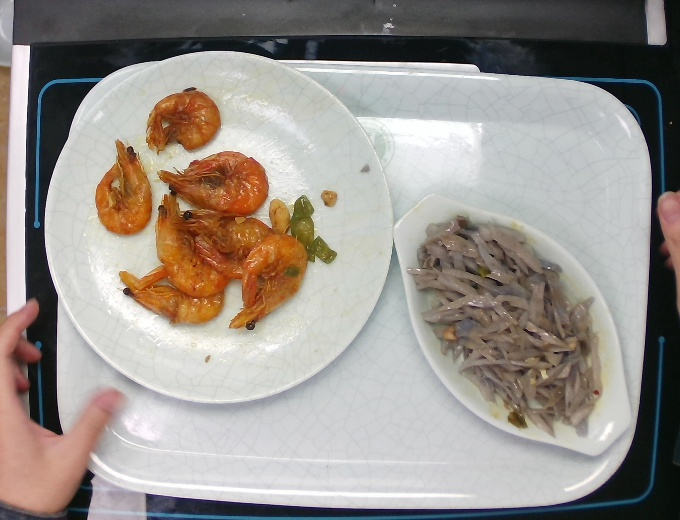JYsf-Da_Yuan_Pan: (43, 50, 393, 412)
JYsf-Yu_Pan: (394, 192, 638, 460)
